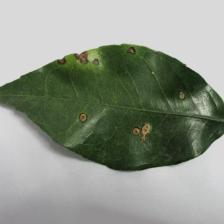canker: (49, 41, 190, 144)
